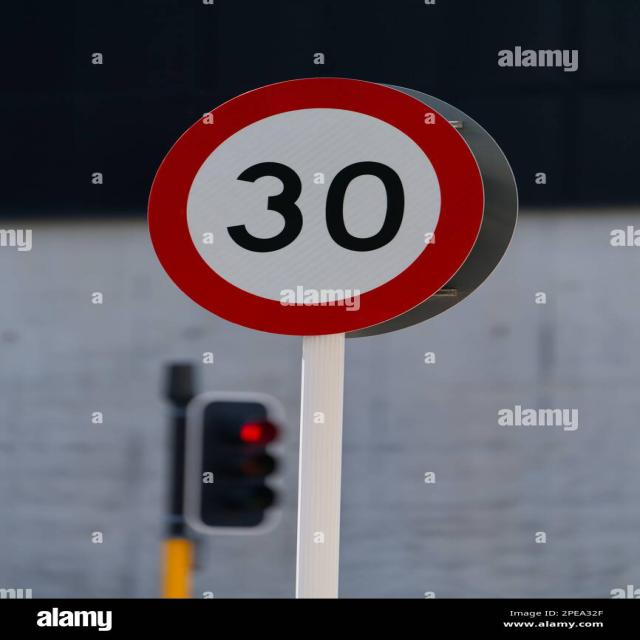speed_30: (148, 77, 479, 336)
